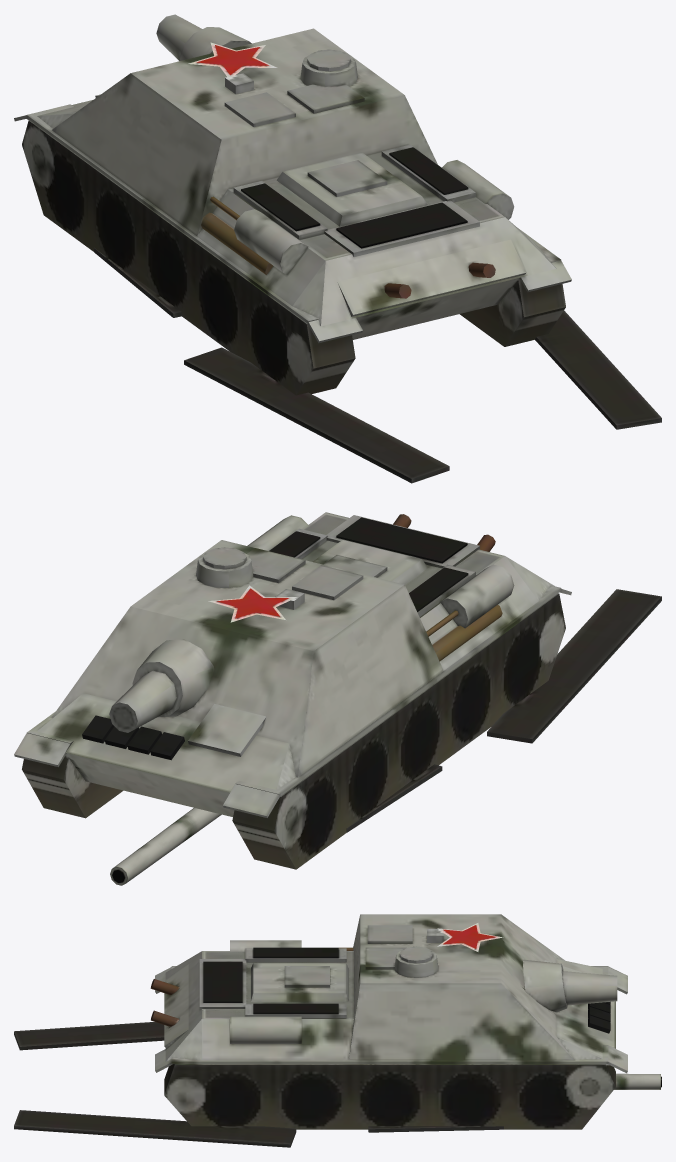
The model's file is su85_winter.glb.
3 views of the same model, one above another, from view 1: azimuth 30°, elevation 25°; view 2: azimuth 150°, elevation 25°; view 3: azimuth 270°, elevation 25° (orthographic). The views are drawn at different scales.
Parts seen in each view (by area): view 1: hull_ok, hull_trackL, hull_trackR; view 2: hull_ok, hull_trackL, gun_ok; view 3: hull_ok, hull_trackR, hull_trackL, gun_ok.
Boxes of the visible parts, x1,y1,x2,y2 form: hull_ok: (14, 14, 571, 395); hull_trackL: (94, 248, 449, 483); hull_trackR: (535, 310, 661, 429); hull_ok: (14, 512, 571, 869); hull_trackL: (346, 589, 661, 832); gun_ok: (110, 808, 221, 885); hull_ok: (150, 914, 627, 1129); hull_trackR: (14, 1110, 503, 1147); hull_trackL: (14, 1022, 164, 1050); gun_ok: (614, 1073, 661, 1089).
Size of the model in its own units: 4.14 by 2.58 by 8.61.
Materials: 12 (12 with a texture image).
